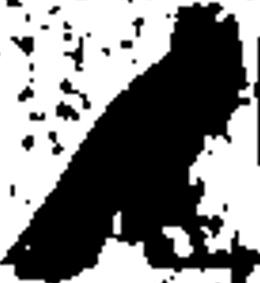Owl: (0, 5, 255, 280)
